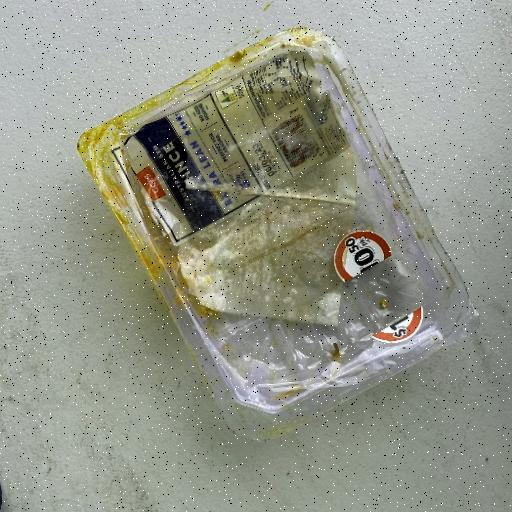Plastic: (76, 25, 478, 439)
